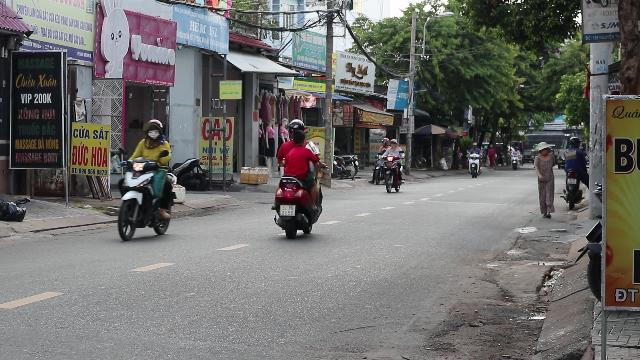helmet: (142, 118, 162, 142), (287, 118, 305, 132)
licenseplate: (280, 205, 294, 215)
motorcyclist: (113, 118, 177, 241), (270, 119, 324, 238)
nohelmet: (290, 130, 306, 146)
